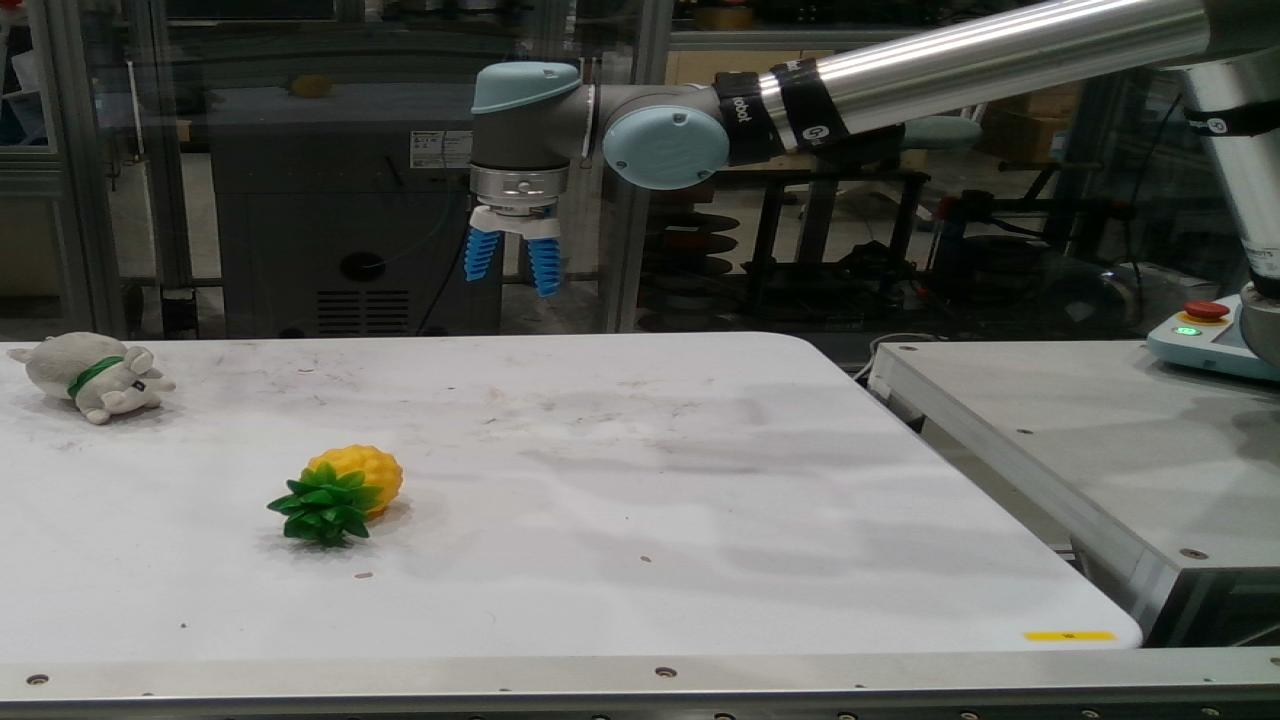UR5: (469, 0, 1279, 366)
gripper_left: (464, 228, 501, 281)
gripper_right: (526, 236, 560, 297)
target: (7, 332, 177, 425), (265, 444, 405, 547)
